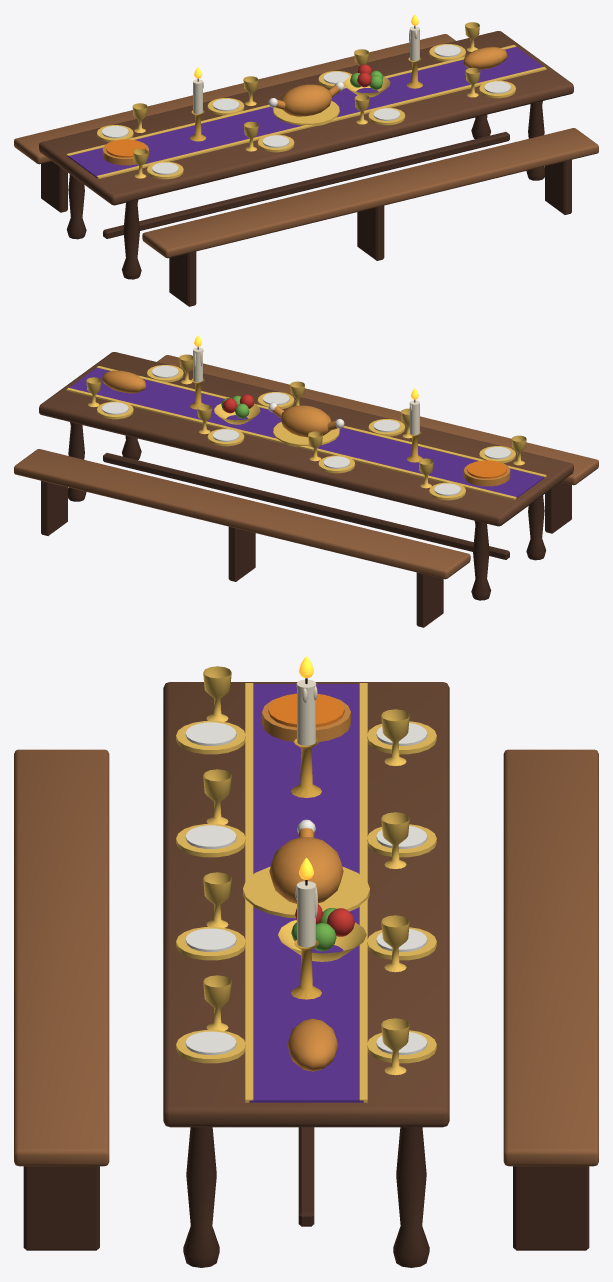
The model's file is magic_feast_table.glb.
The picture shows the model from 3 angles, top to bottom: view 1: azimuth 30°, elevation 25°; view 2: azimuth 150°, elevation 25°; view 3: azimuth 270°, elevation 25°; orthographic projection. The views are drawn at different scales.
Parts seen in each view (by area): view 1: magic_feast_table; view 2: magic_feast_table; view 3: magic_feast_table.
Part boxes in pixels (x1,y1,x2,y2): magic_feast_table: (14, 14, 598, 306); magic_feast_table: (14, 335, 598, 627); magic_feast_table: (14, 656, 598, 1267).
Size of the model in its own units: 3.2 by 1.1 by 1.84.
